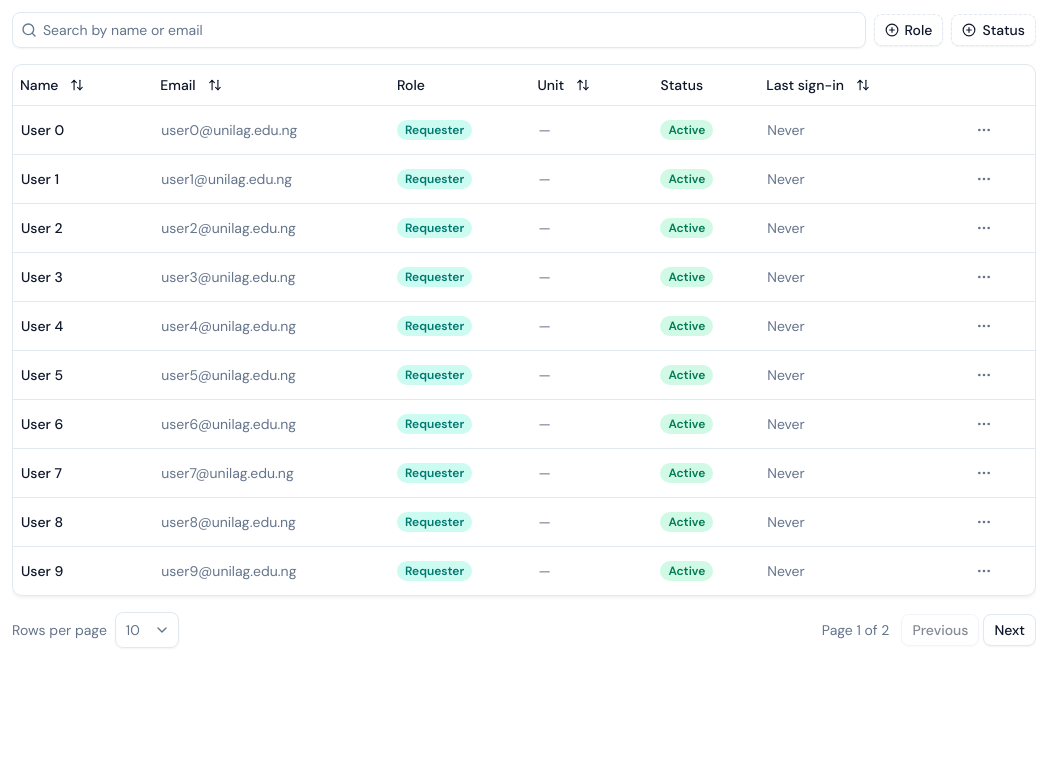
it: UsersDataTable › resets to page 1 when a filter is applied
The image size is (1048, 780).
// Move to page 2 first.
Click the button "Next". click: (1010, 630)
box: [984,614,1036,646]
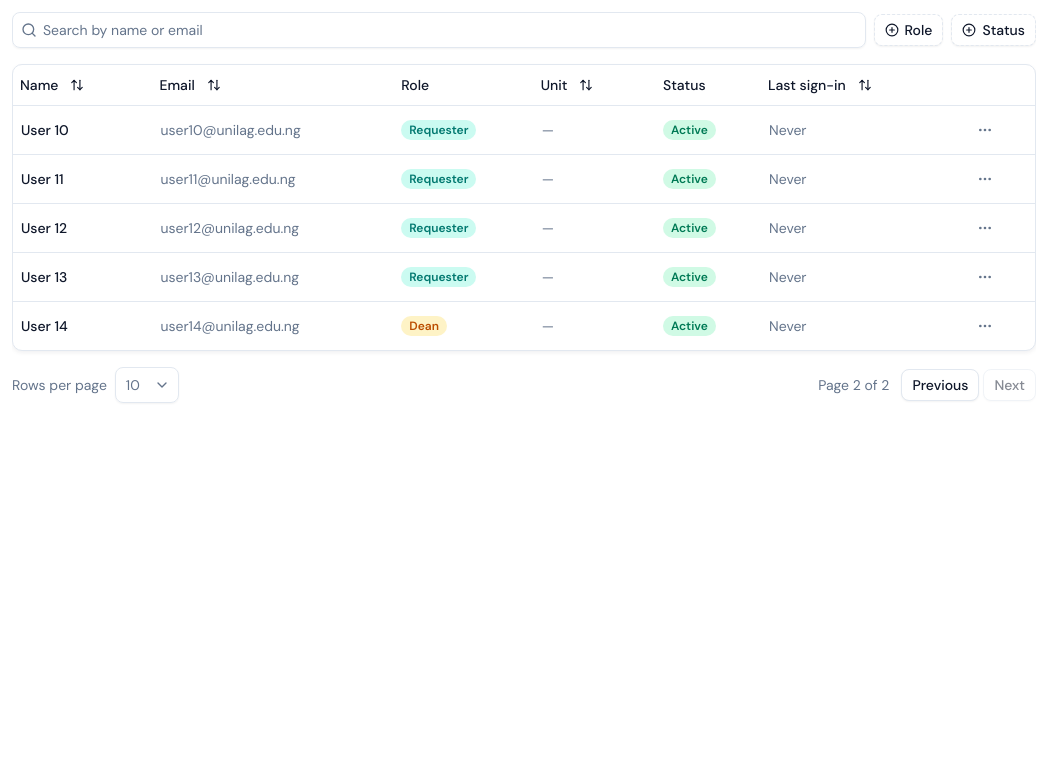
Now the text "Page 2 of 2" is shown, box [818,374,889,394]
// Applying a filter (only 1 DEAN, out of 15) must snap back to page 1.
Click the button "Role". click: (908, 30)
box: [874,14,943,46]
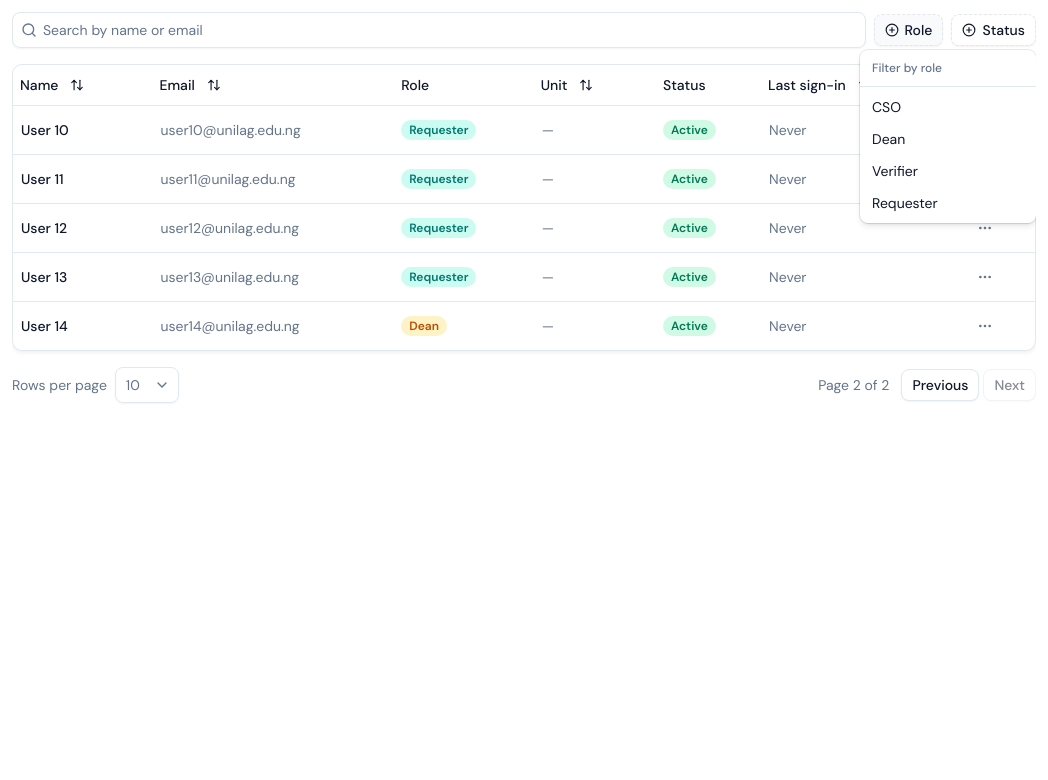
Click the menu item "Dean". click: (889, 139)
box: [872,130,905,148]
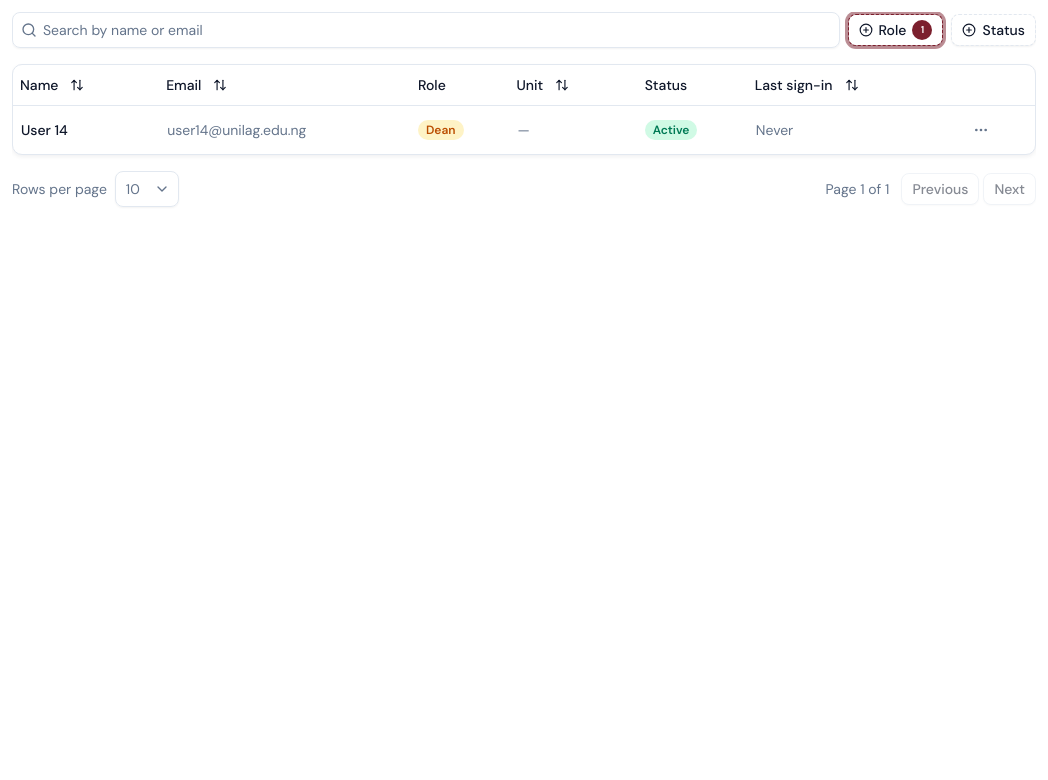
Now the button "Next" is disabled, box [984,172,1036,204]
Now the text "Page 1 of 1" is shown, box [826,178,889,198]
